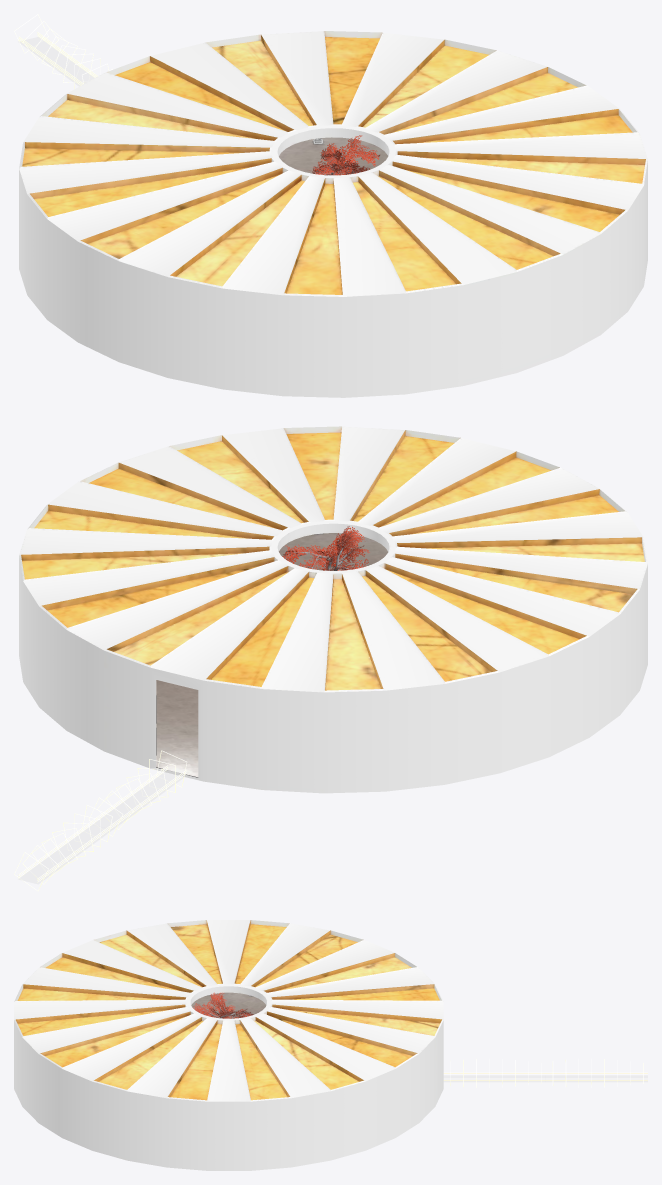
File: Gallery2Scene1.glb
The picture shows the model from 3 angles, top to bottom: view 1: azimuth 30°, elevation 25°; view 2: azimuth 150°, elevation 25°; view 3: azimuth 270°, elevation 25°; orthographic projection. The views are drawn at different scales.
Parts seen in each view (by area): view 1: Circle.009, pasted__Tree_Branches_0513.005, Plane.004, Rectangle.004, Cylinder.004; view 2: Circle.009, Plane.004 (×2), pasted__Tree_Branches_0513.005, Rectangle.004 (×2), Cylinder.004 (×2); view 3: Circle.009, Cylinder.004 (×2), Plane.004 (×2), pasted__Tree_Branches_0513.005.
Part boxes in pixels (bbox=[...]): Circle.009: bbox=[19, 31, 647, 397]; pasted__Tree_Branches_0513.005: bbox=[308, 135, 379, 175]; Plane.004: bbox=[20, 37, 93, 85]; Rectangle.004: bbox=[14, 14, 108, 88]; Cylinder.004: bbox=[18, 32, 97, 85]; Circle.009: bbox=[19, 426, 647, 793]; Plane.004 (×2): bbox=[19, 771, 186, 883]; pasted__Tree_Branches_0513.005: bbox=[282, 526, 369, 570]; Rectangle.004 (×2): bbox=[14, 750, 187, 891]; Cylinder.004 (×2): bbox=[18, 765, 186, 882]; Circle.009: bbox=[14, 920, 443, 1170]; Cylinder.004 (×2): bbox=[443, 1072, 647, 1080]; Plane.004 (×2): bbox=[444, 1075, 647, 1081]; pasted__Tree_Branches_0513.005: bbox=[192, 992, 253, 1018].
Bounding box in the file's own units: 41.79 × 9.84 × 61.67.
13 materials, 3 textured.
